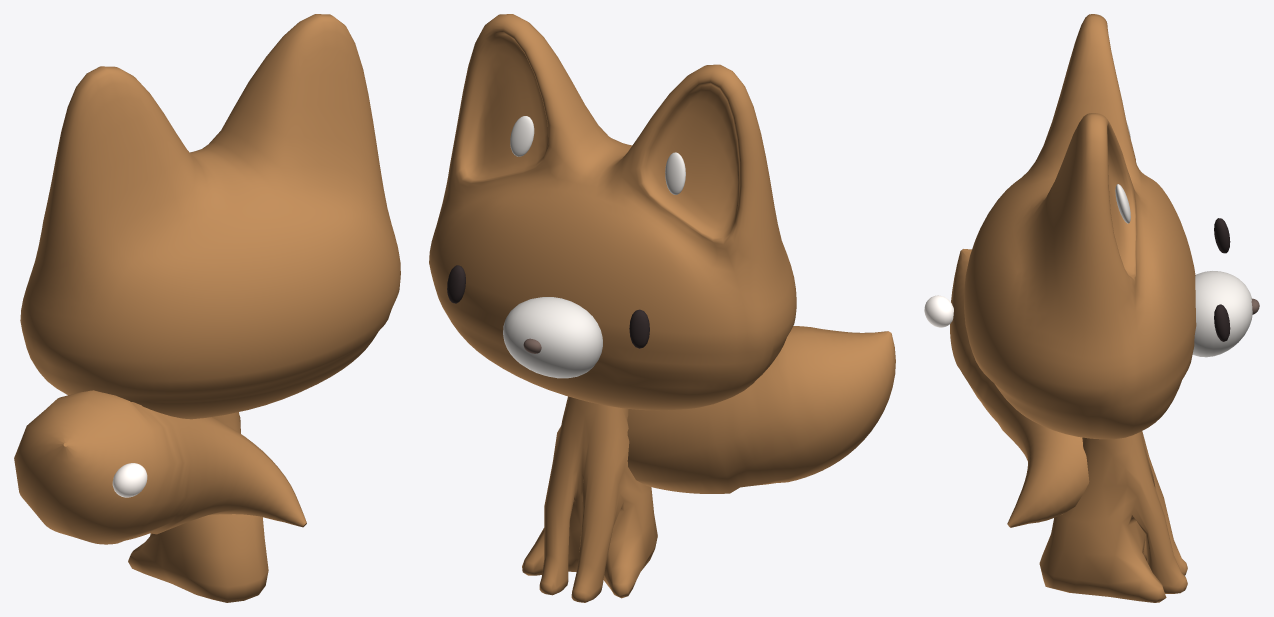
The model's file is fox-base-v7.glb.
3 renders of one model, left to right at view 1: azimuth 30°, elevation 25°; view 2: azimuth 150°, elevation 25°; view 3: azimuth 270°, elevation 25°, orthographic. The views are drawn at different scales.
Parts seen in each view (by area): view 1: FoxBase_Head, FoxBase_Tail, FoxBase_Body, FoxBase_TailTip; view 2: FoxBase_Head, FoxBase_Tail, FoxBase_Body, FoxBase_Muzzle, FoxBase_InnerEarLeft, FoxBase_InnerEarRight, FoxBase_EyeRight; view 3: FoxBase_Head, FoxBase_Body, FoxBase_Tail, FoxBase_Muzzle, FoxBase_TailTip, FoxBase_EyeLeft, FoxBase_EyeRight.
Part boxes in pixels (box(x1,y1,x2,y2)): FoxBase_Head: box(20, 14, 400, 419); FoxBase_Tail: box(14, 390, 306, 544); FoxBase_Body: box(128, 412, 268, 602); FoxBase_TailTip: box(112, 463, 147, 497); FoxBase_Head: box(429, 14, 796, 410); FoxBase_Tail: box(627, 326, 895, 493); FoxBase_Body: box(522, 396, 657, 602); FoxBase_Muzzle: box(503, 297, 602, 378); FoxBase_InnerEarLeft: box(510, 116, 534, 156); FoxBase_InnerEarRight: box(665, 152, 685, 194); FoxBase_EyeRight: box(629, 309, 649, 348); FoxBase_Head: box(964, 14, 1196, 439); FoxBase_Body: box(1039, 431, 1187, 602); FoxBase_Tail: box(950, 249, 1089, 527); FoxBase_Muzzle: box(1192, 271, 1252, 357); FoxBase_TailTip: box(924, 295, 953, 327); FoxBase_EyeLeft: box(1214, 304, 1230, 341); FoxBase_EyeRight: box(1214, 218, 1230, 253).
Size of the model in its own units: 0.3302 by 0.4216 by 0.2479.
